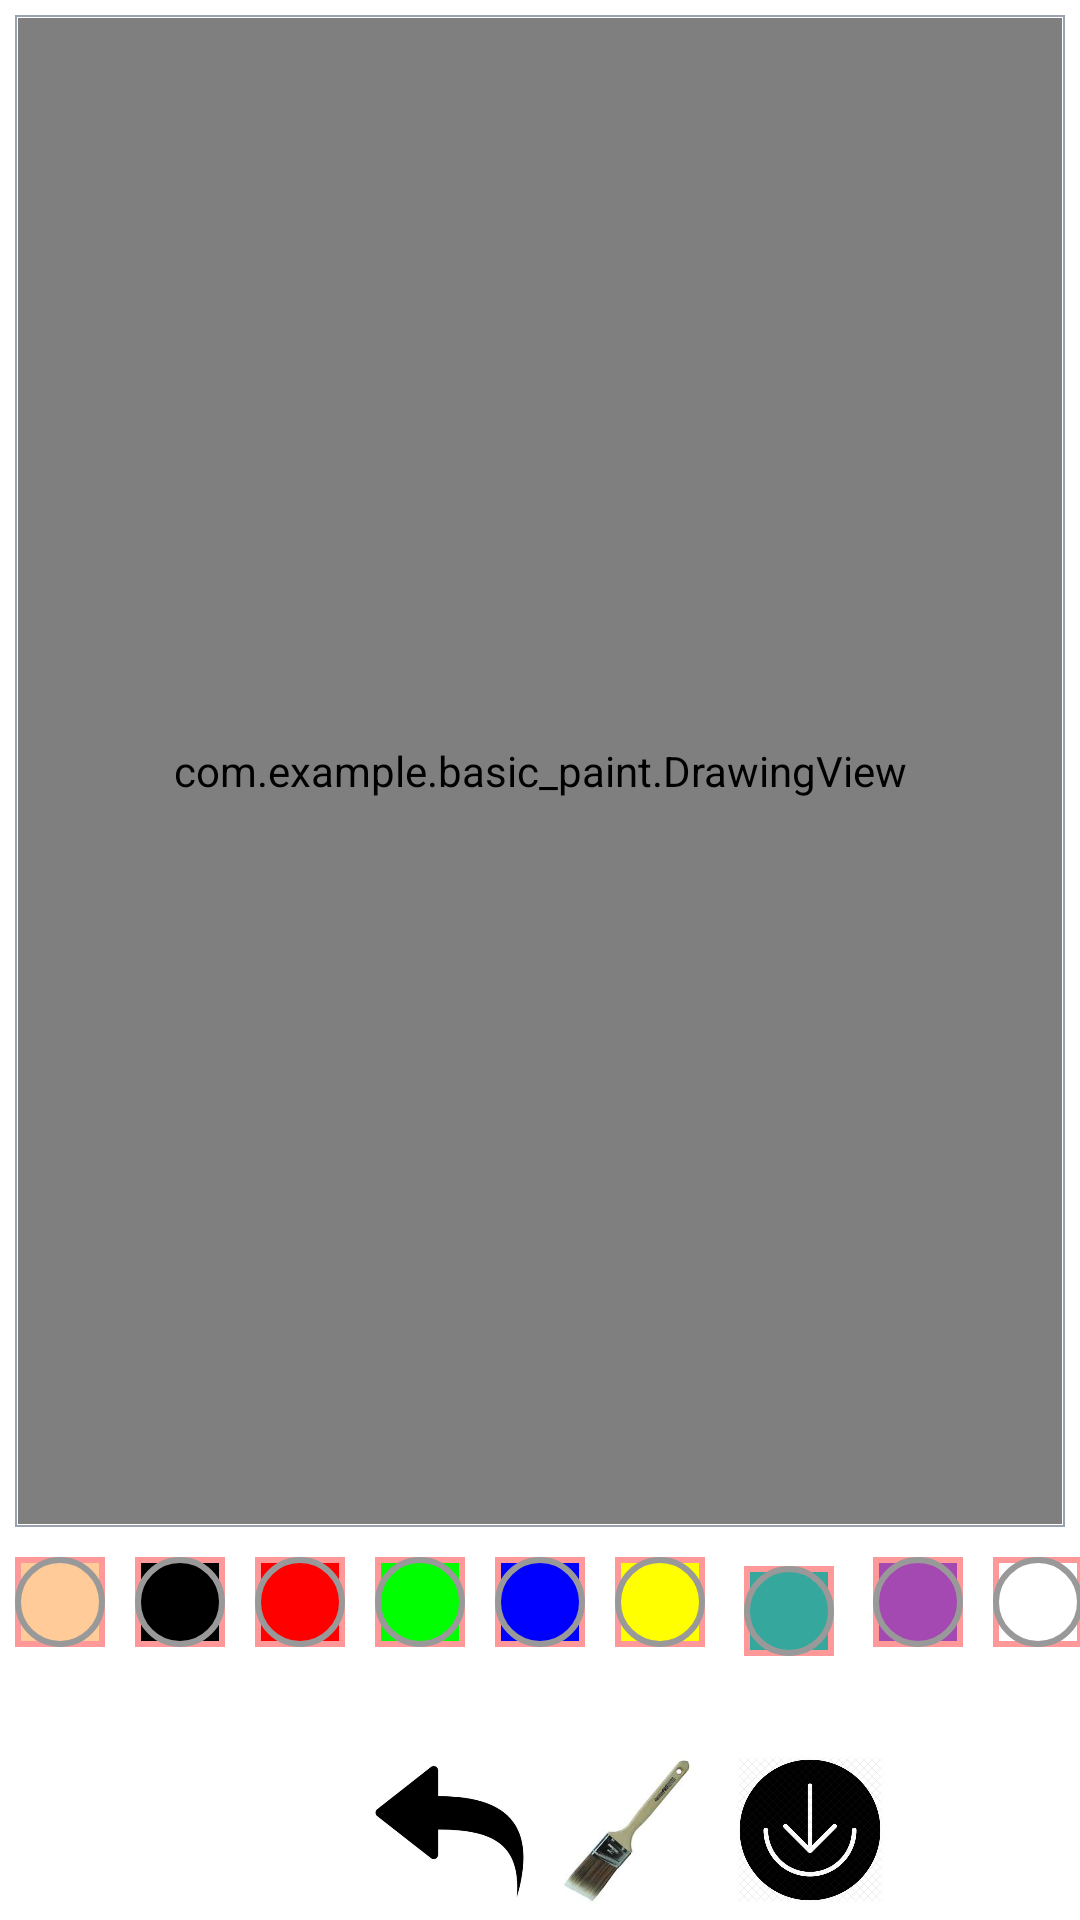

Screen size 1080w x 1920h. Icon name, then its center in pixels as (x,y):
brush: (627,1830)
save: (810,1830)
undo: (449,1831)
